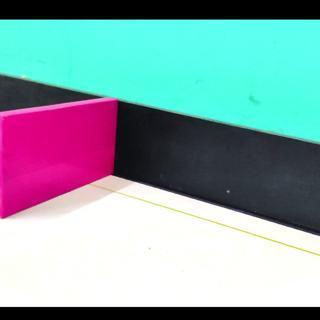xparking: (4, 116, 111, 218)
